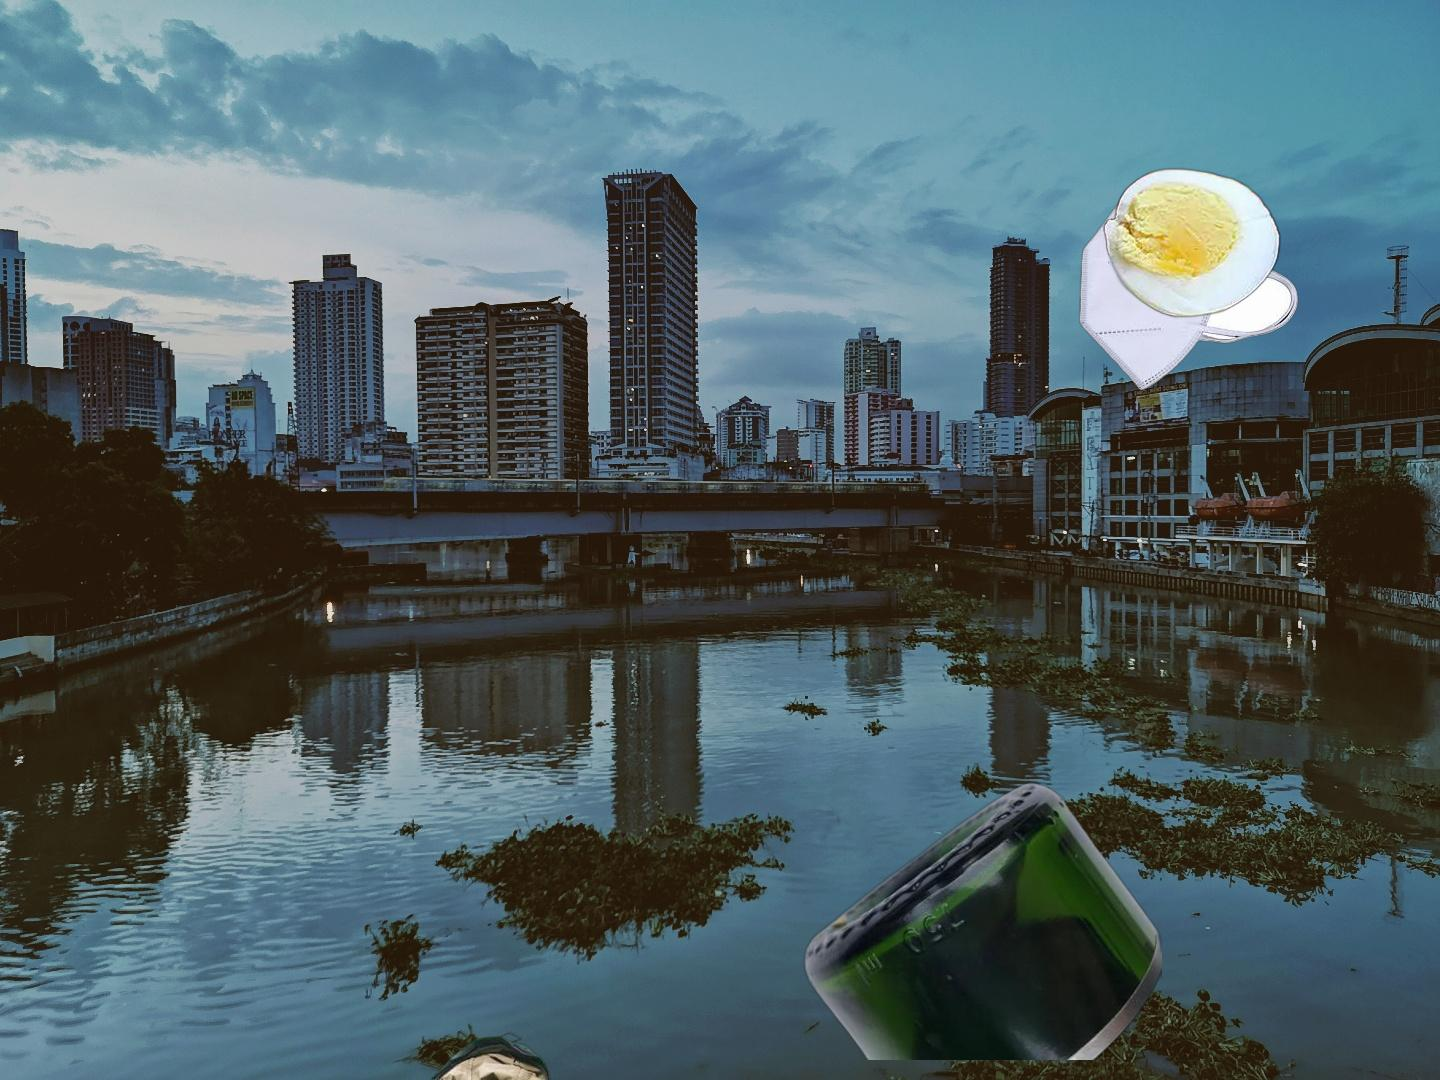biological: (994, 166, 1356, 417)
clothes: (316, 1031, 705, 1080)
glass: (801, 779, 1162, 1060)
trash: (1076, 192, 1301, 393)
